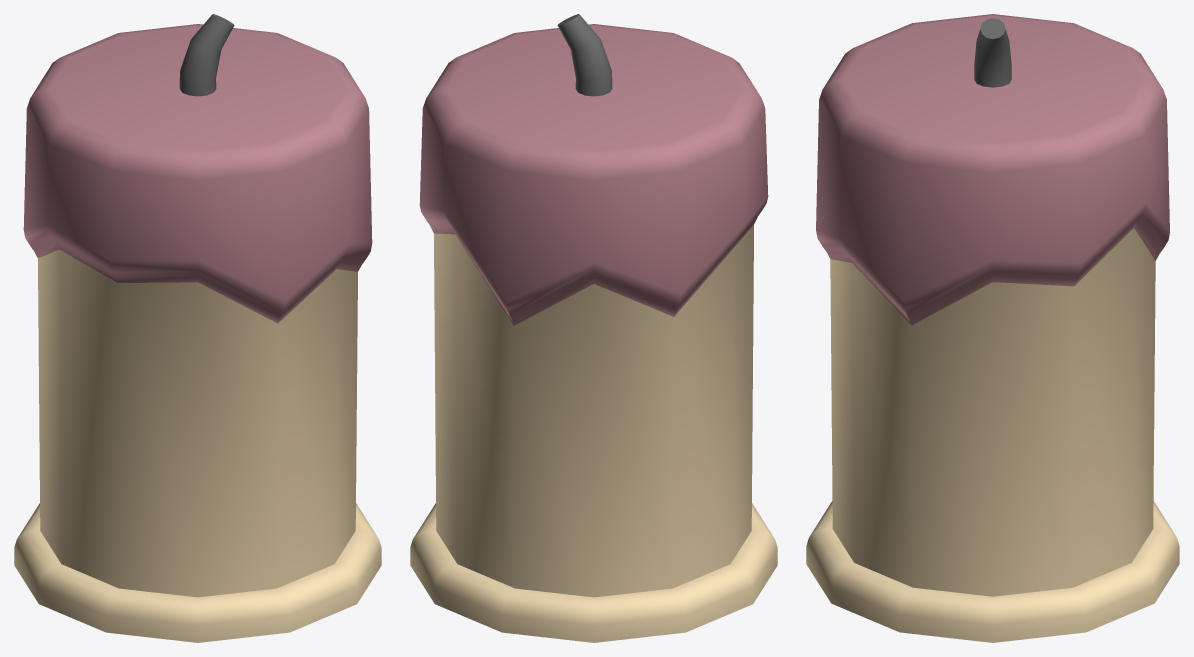
File: Candle_1C.fbx
3 renders of one model, left to right at view 1: azimuth 30°, elevation 25°; view 2: azimuth 150°, elevation 25°; view 3: azimuth 270°, elevation 25°, orthographic.
Parts seen in each view (by area): view 1: Candle_1C; view 2: Candle_1C; view 3: Candle_1C.
Boxes of the visible parts, x1,y1,x2,y2 form: Candle_1C: (14,14,381,642); Candle_1C: (410,14,777,642); Candle_1C: (806,14,1179,642).
Bounding box in the file's own units: 0.1001 × 0.1639 × 0.1001.
